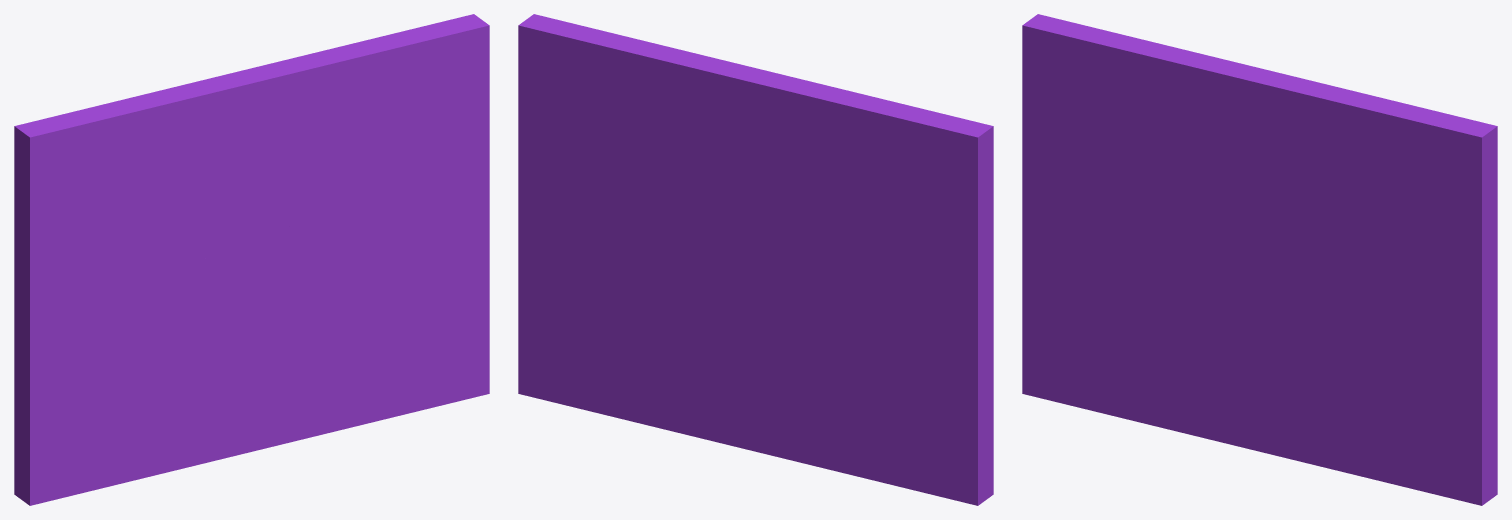
File: Barrier_170_chunks.fbx
3 renders of one model, left to right at view 1: azimuth 30°, elevation 25°; view 2: azimuth 150°, elevation 25°; view 3: azimuth 330°, elevation 25°, orthographic.
Parts seen in each view (by area): view 1: Barrier_170_1, Barrier_170_0, Barrier_170_5, Barrier_170_6, Barrier_170_4; view 2: Barrier_170_1, Barrier_170_0, Barrier_170_6, Barrier_170_4, Barrier_170_5, Barrier_170_3, Barrier_170_2; view 3: Barrier_170_1, Barrier_170_0, Barrier_170_5, Barrier_170_6, Barrier_170_4.
Boxes of the visible parts, x1,y1,x2,y2 form: Barrier_170_1: (257, 14, 489, 440); Barrier_170_0: (14, 231, 298, 505); Barrier_170_5: (14, 112, 214, 258); Barrier_170_6: (73, 25, 444, 180); Barrier_170_4: (200, 20, 451, 264); Barrier_170_1: (518, 14, 723, 438); Barrier_170_0: (704, 229, 993, 505); Barrier_170_6: (563, 25, 919, 176); Barrier_170_4: (545, 23, 813, 264); Barrier_170_5: (839, 108, 993, 257); Barrier_170_3: (787, 137, 894, 259); Barrier_170_2: (709, 226, 767, 356); Barrier_170_1: (1249, 119, 1497, 505); Barrier_170_0: (1022, 128, 1290, 459); Barrier_170_5: (1022, 14, 1207, 228); Barrier_170_6: (1096, 28, 1452, 158); Barrier_170_4: (1193, 115, 1469, 262).
Bounding box in the file's own units: 376 × 288 × 22.1.
